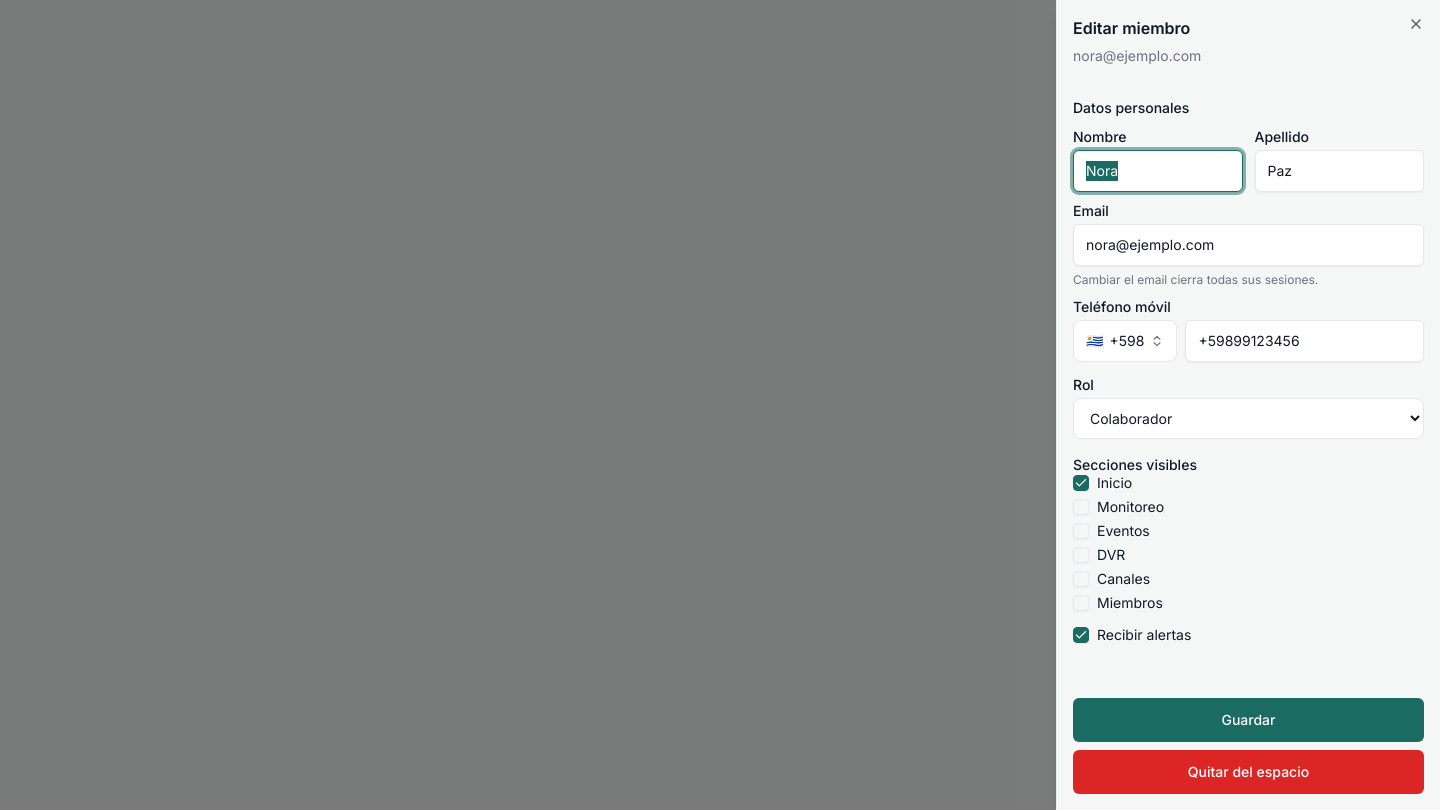
it: MemberEditSheet › shows an inline error for an invalid email and does not send
Replace the text in the field labelled "Email" with "nope": (1248, 245) [1073,224,1424,266]
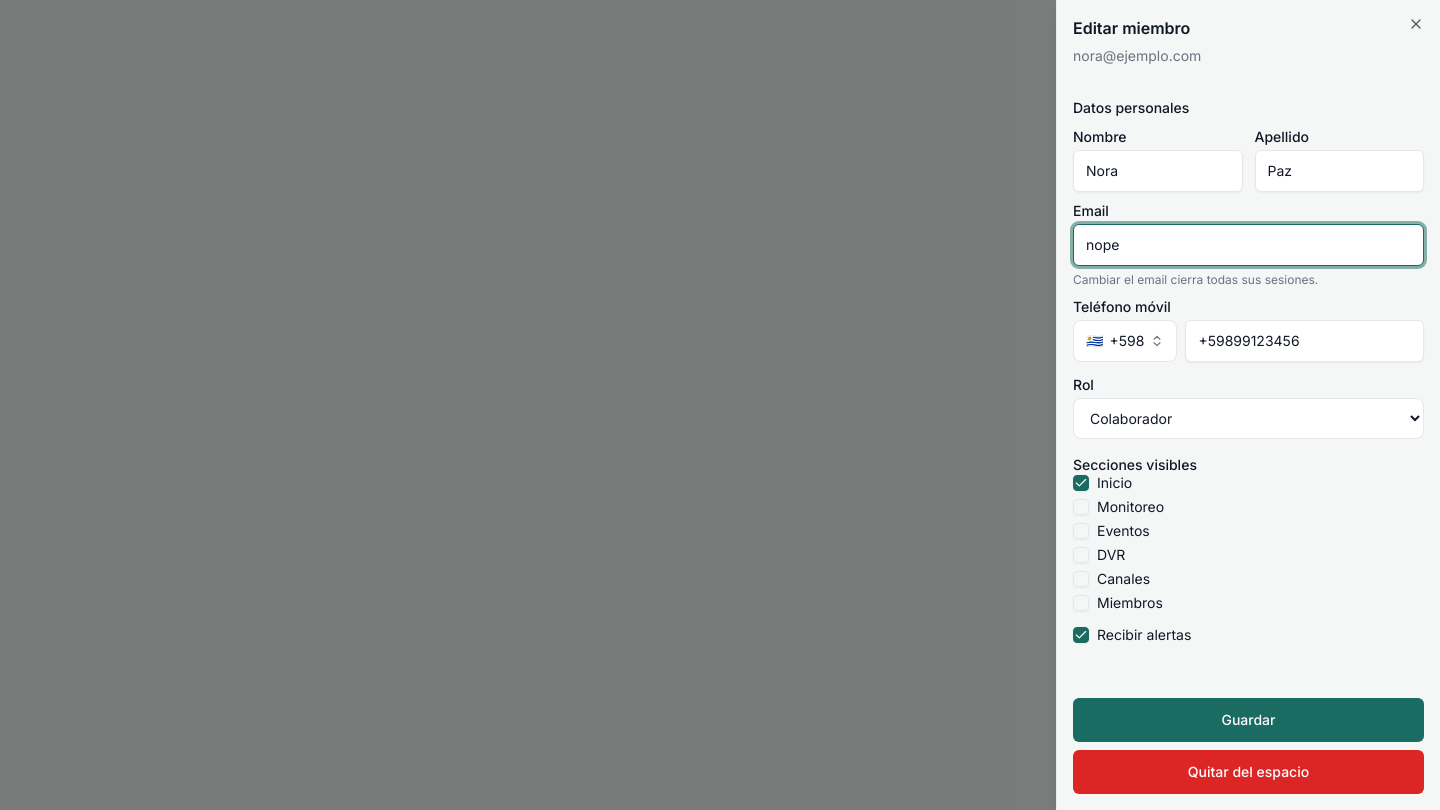
Click the button "Guardar": (1248, 720) [1073,698,1424,742]
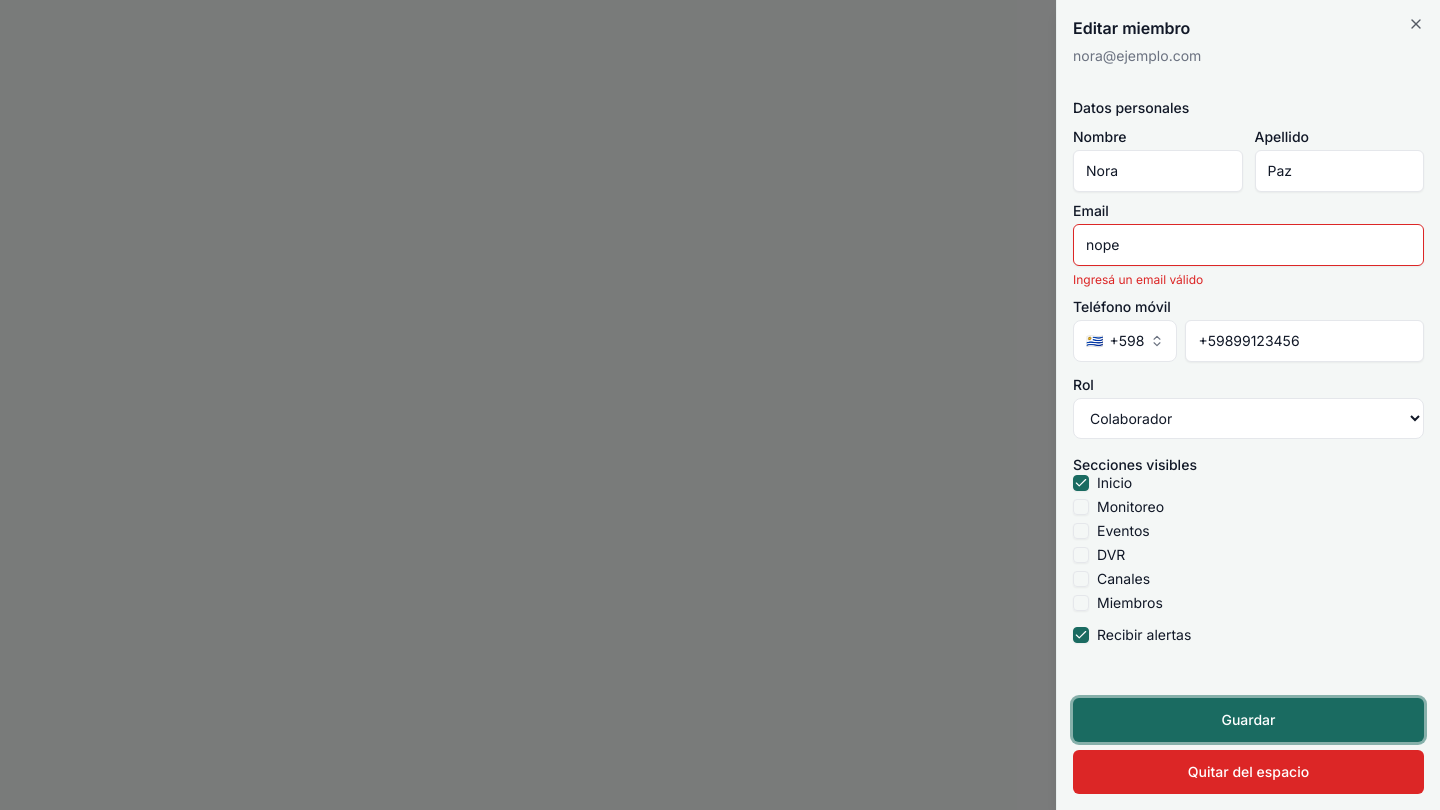
Check: the text "Ingresá un email válido" is shown, box [1073,272,1203,287]
